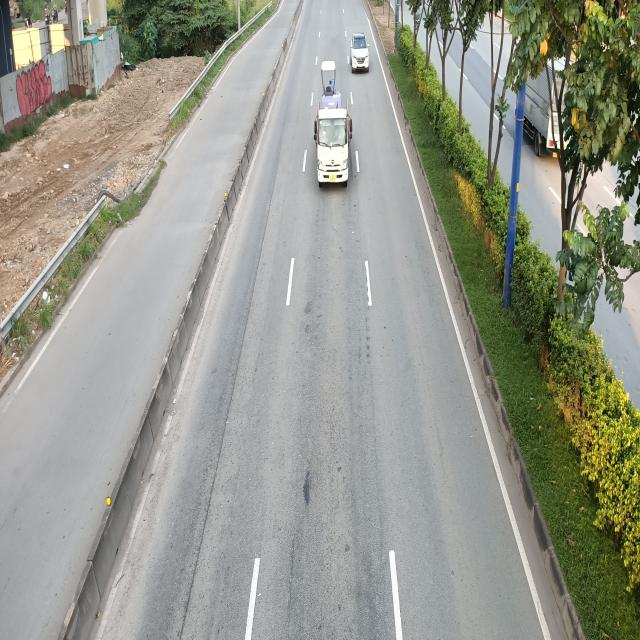car: (350, 32, 370, 73)
truck: (314, 96, 354, 188)
